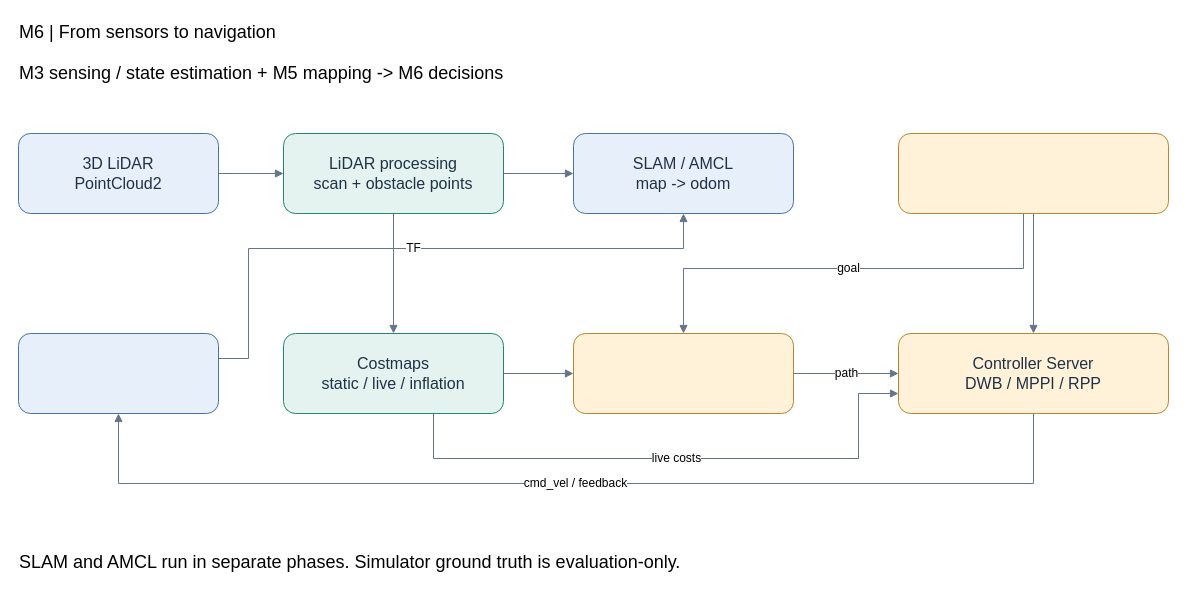
This 1204x594 diagram has some shape labels left out. Here are the shapes that lost their labels. From the top down, the centre of each, then its label:
the point at 1033,173: BT Navigator goal / recovery
the point at 118,373: Wheel + IMU EKF -> odom
the point at 683,373: Planner Server A* / Dijkstra / Theta*
